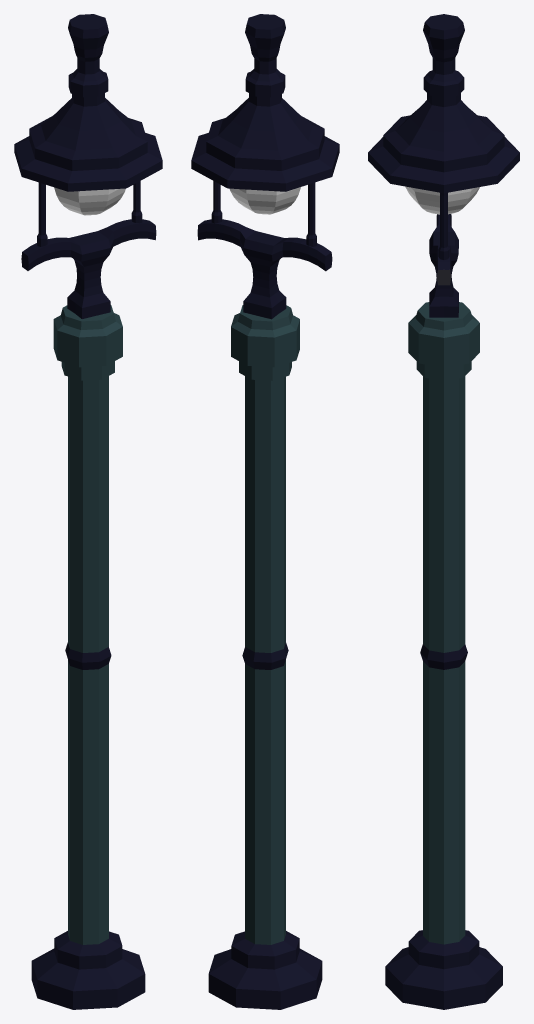
Rendered from lamp2.gltf.
3 renders of one model, left to right at view 1: azimuth 30°, elevation 25°; view 2: azimuth 150°, elevation 25°; view 3: azimuth 270°, elevation 25°, orthographic.
Visible parts, largest first — view 1: Base_pole_F, Hat of head lamp_F, Base of head lamp_F, Emission_Lamp_F, support for head lamp 2_F, support for head lamp_F; view 2: Base_pole_F, Hat of head lamp_F, Base of head lamp_F, Emission_Lamp_F, support for head lamp 2_F, support for head lamp_F; view 3: Base_pole_F, Hat of head lamp_F, Base of head lamp_F, Emission_Lamp_F, support for head lamp_F.
Part boxes in pixels (x1,y1,x2,y2): Base_pole_F: [31, 305, 145, 1009]; Hat of head lamp_F: [14, 14, 162, 191]; Base of head lamp_F: [21, 219, 156, 318]; Emission_Lamp_F: [54, 187, 125, 215]; support for head lamp 2_F: [37, 182, 47, 246]; support for head lamp_F: [131, 181, 142, 223]; Base_pole_F: [208, 305, 322, 1009]; Hat of head lamp_F: [191, 14, 339, 191]; Base of head lamp_F: [197, 219, 332, 319]; Emission_Lamp_F: [229, 187, 300, 214]; support for head lamp 2_F: [306, 182, 316, 246]; support for head lamp_F: [211, 181, 222, 223]; Base_pole_F: [385, 302, 502, 1009]; Hat of head lamp_F: [368, 14, 519, 193]; Base of head lamp_F: [429, 214, 458, 317]; Emission_Lamp_F: [405, 186, 479, 214]; support for head lamp_F: [438, 192, 449, 259].
Size of the model in its own units: 0.9368 by 6.46 by 0.9234.
1 material, 1 textured.
